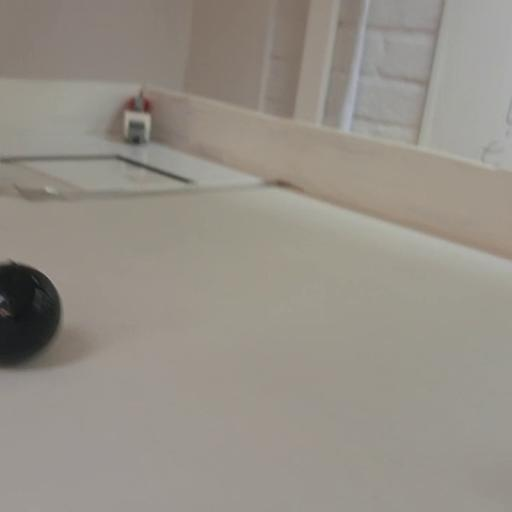dead: (0, 260, 60, 364)
